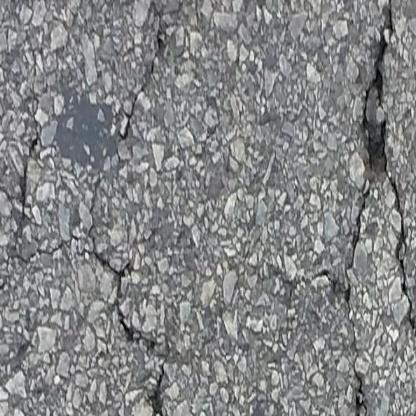Cracks: (44, 210, 227, 416), (348, 0, 416, 416), (83, 0, 227, 159), (0, 96, 79, 327)
